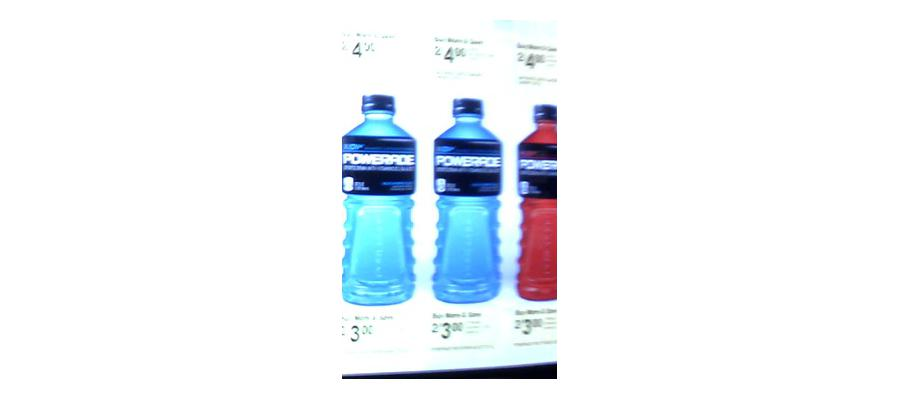bottle: (337, 91, 424, 330), (425, 97, 504, 313), (512, 101, 560, 306)
